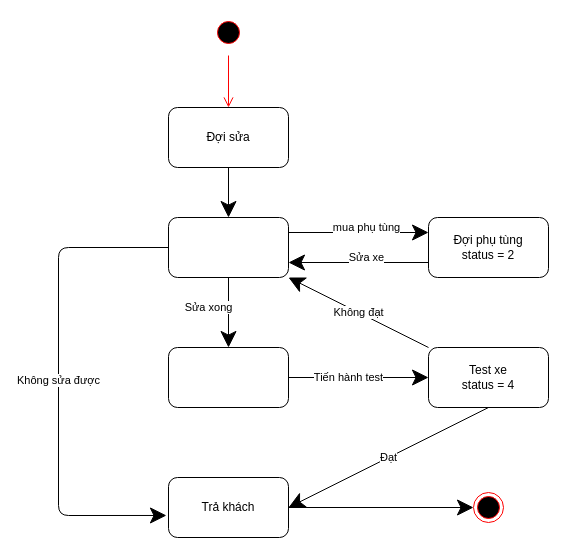
This 566x555 diagram has some shape labels left out. The box of each missing label's shape, as (x1, y1, x2, y2) in pixels:
Sửa status = 1: (168, 216, 288, 278)
Sửa xong status = 3: (168, 346, 288, 408)
